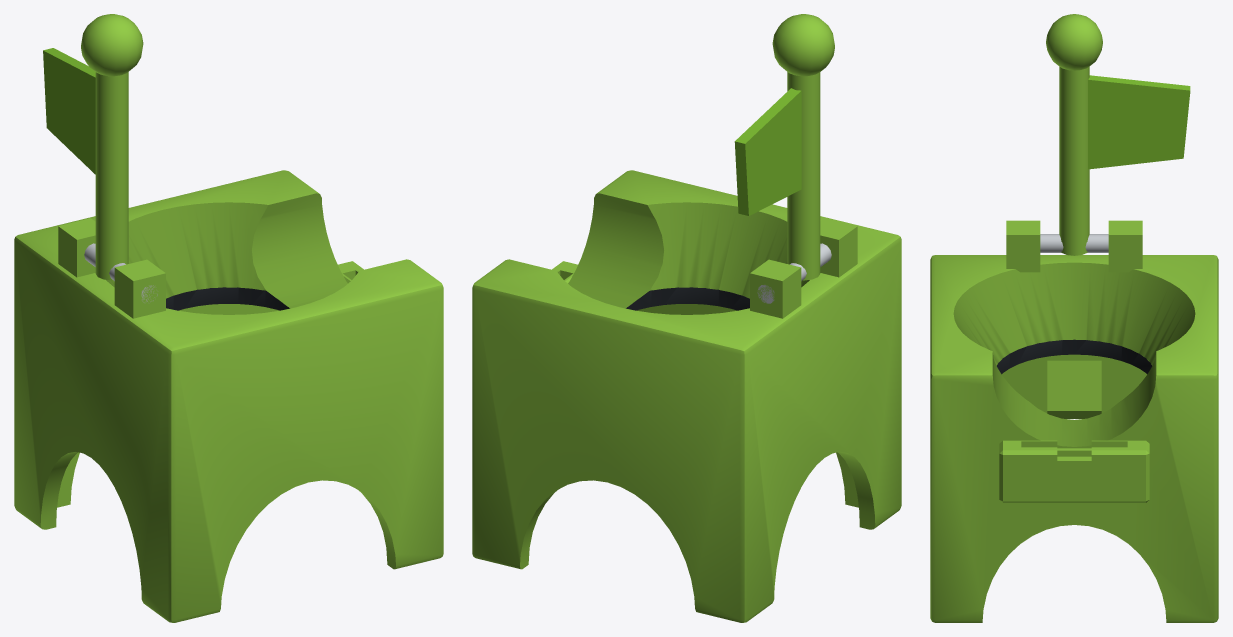
The picture shows the model from 3 angles, left to right: view 1: azimuth 30°, elevation 25°; view 2: azimuth 150°, elevation 25°; view 3: azimuth 270°, elevation 25°; orthographic projection. The views are drawn at different scales.
Parts seen in each view (by area): view 1: M-05; view 2: M-05; view 3: M-05, flap.
Part boxes in pixels (box(x1,y1,x2,y2)): M-05: box(14, 14, 443, 622); M-05: box(472, 14, 901, 622); M-05: box(930, 14, 1218, 622); flap: box(1047, 360, 1101, 418).
Size of the model in its own units: 0.0477 by 0.0802 by 0.0423.
